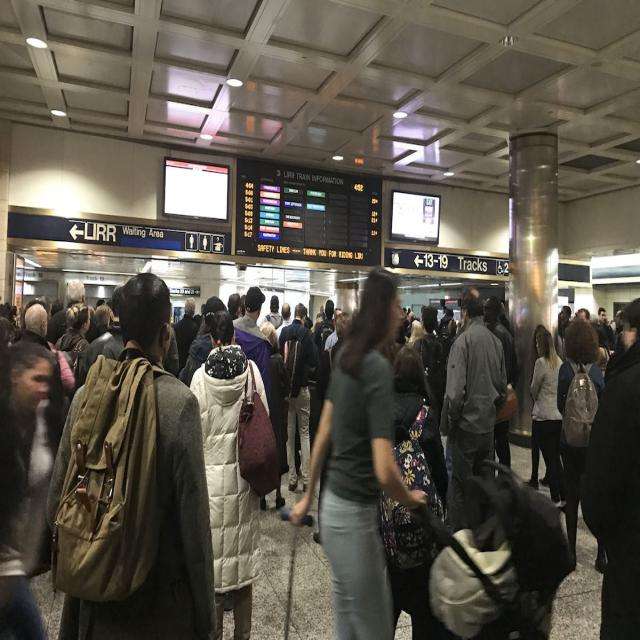body: (45, 269, 216, 640), (286, 265, 428, 640), (187, 308, 271, 640), (576, 297, 639, 640), (379, 343, 450, 608), (1, 340, 62, 640), (438, 286, 508, 536), (555, 314, 610, 574), (9, 302, 64, 459), (277, 302, 318, 494), (482, 295, 520, 477), (529, 328, 566, 493), (258, 321, 290, 511), (232, 286, 275, 417), (75, 285, 128, 388), (178, 295, 230, 388), (411, 304, 447, 428), (44, 277, 99, 352), (527, 323, 549, 488), (59, 300, 92, 406), (321, 311, 354, 401), (312, 299, 336, 391), (173, 296, 199, 374), (0, 299, 30, 347), (48, 297, 79, 332), (165, 292, 177, 374), (259, 294, 283, 330), (400, 304, 421, 344), (596, 306, 615, 349), (301, 302, 326, 334), (323, 309, 342, 351), (275, 302, 293, 339), (497, 299, 514, 334), (436, 307, 454, 340), (557, 304, 574, 336), (94, 303, 112, 330), (227, 292, 242, 321), (192, 302, 206, 329), (240, 288, 246, 318), (95, 294, 106, 308), (319, 304, 326, 321)
